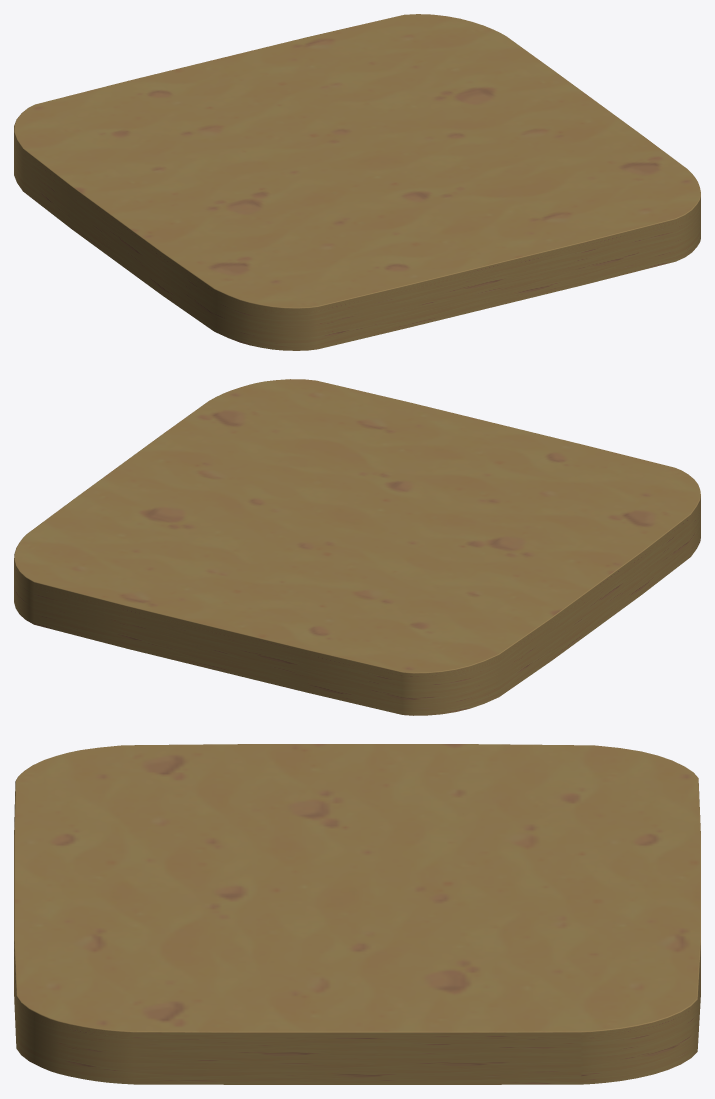
File: curved-rectangle.glb
3 renders of one model, top to bottom at view 1: azimuth 30°, elevation 25°; view 2: azimuth 150°, elevation 25°; view 3: azimuth 270°, elevation 25°, orthographic. The views are drawn at different scales.
Visible parts, largest first — view 1: geometry_0; view 2: geometry_0; view 3: geometry_0.
Part boxes in pixels (x1,y1,x2,y2): geometry_0: [14, 14, 700, 350]; geometry_0: [14, 379, 700, 715]; geometry_0: [14, 744, 700, 1084].
Size of the model in its own units: 70.21 by 6 by 70.7.
1 material, 1 textured.
